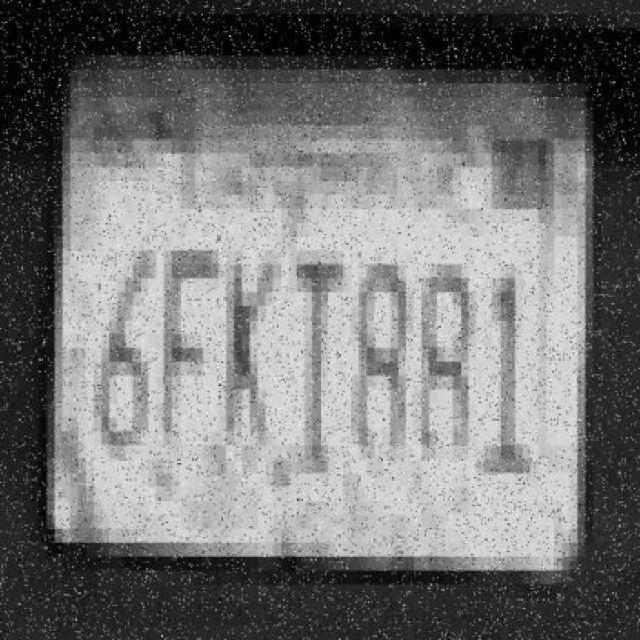licenseplate: (41, 21, 599, 578)
